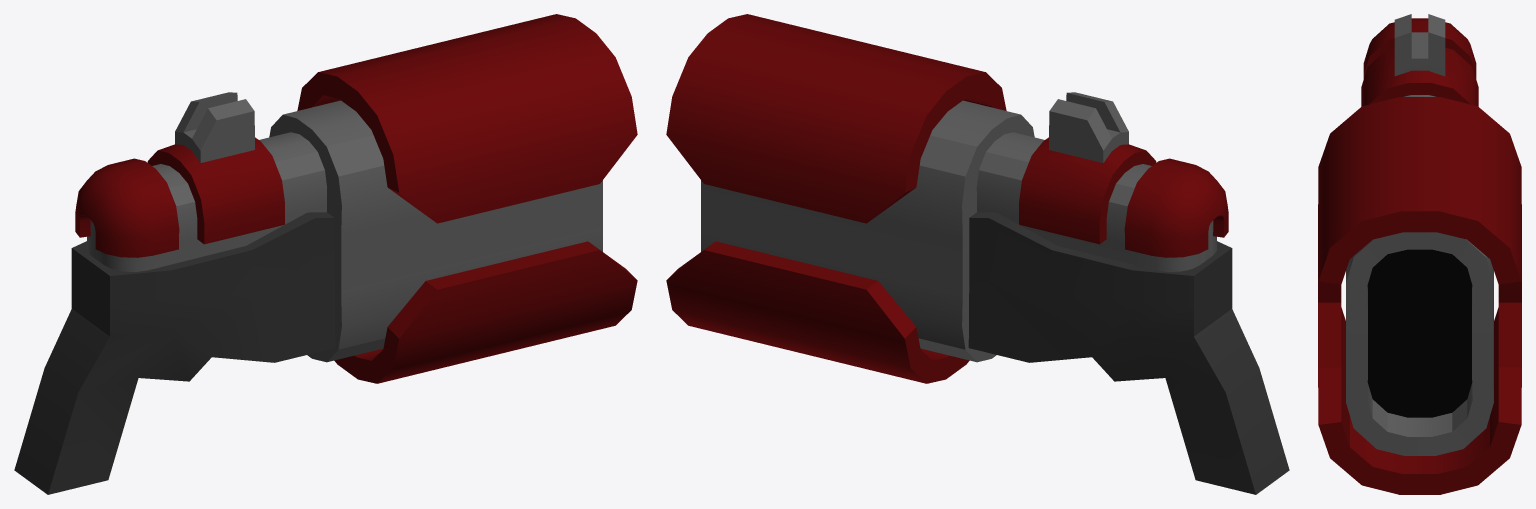
File: final_pistol_1.fbx
3 renders of one model, left to right at view 1: azimuth 30°, elevation 25°; view 2: azimuth 150°, elevation 25°; view 3: azimuth 270°, elevation 25°, orthographic.
Visible parts, largest first — view 1: Cube; view 2: Cube; view 3: Cube.
Part boxes in pixels (x1,y1,x2,y2): Cube: (14, 14, 637, 494); Cube: (666, 14, 1289, 494); Cube: (1318, 14, 1521, 494).
Size of the model in its own units: 1837 by 1061 by 594.
